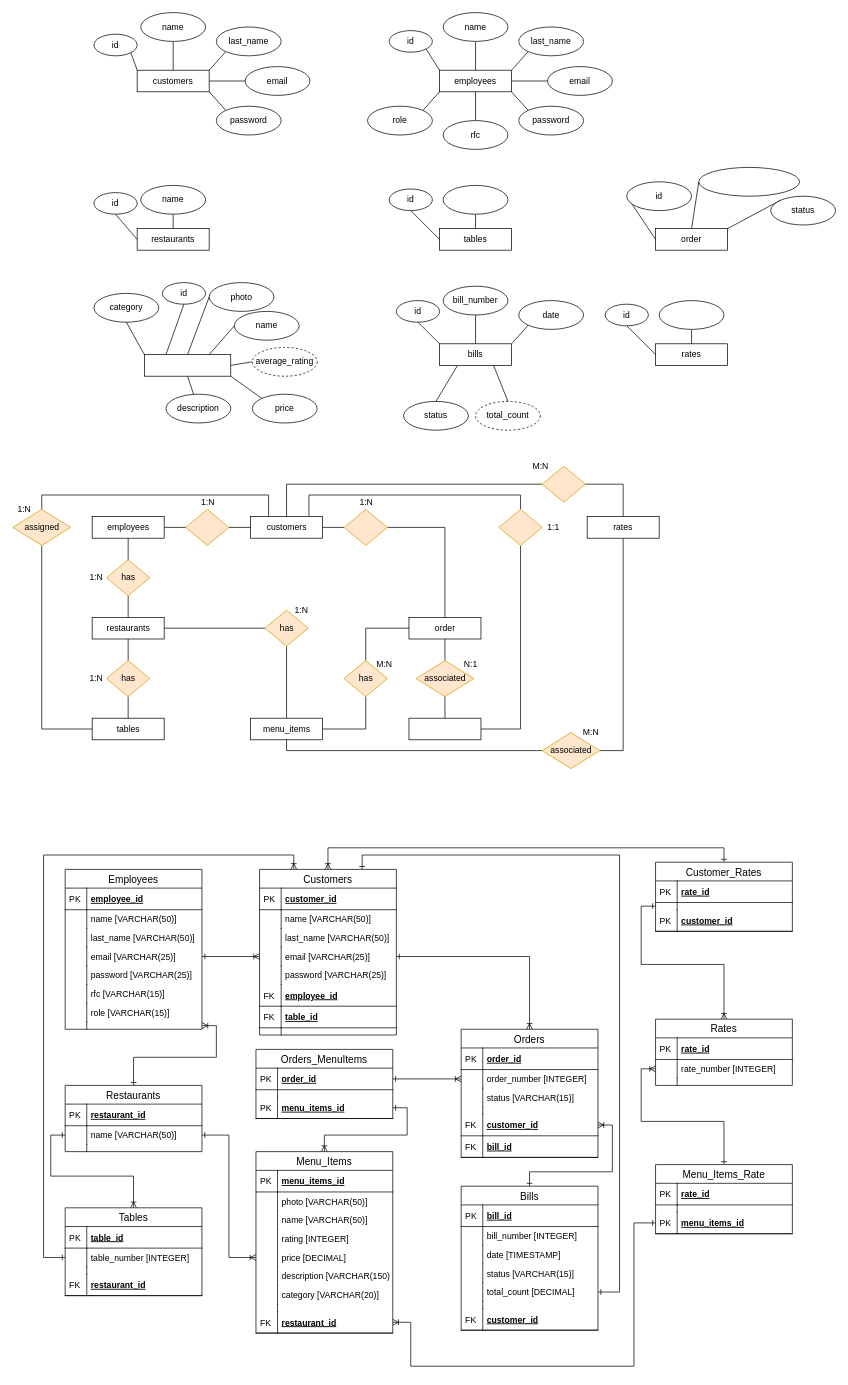
This 848x1385 diagram has some shape labels left out. The centre of each missing label's shape, as x and y in pixels:
"belong" goes at pixel 520 527.
"bill" goes at pixel 444 728.
"generate" goes at pixel 365 527.
"make" goes at pixel 563 483.
"menu_items(dishes)" goes at pixel 187 365.
"order_number" goes at pixel 749 181.
"rate_number" goes at pixel 691 314.
"serve" goes at pixel 207 527.
"table_number" goes at pixel 475 199.
